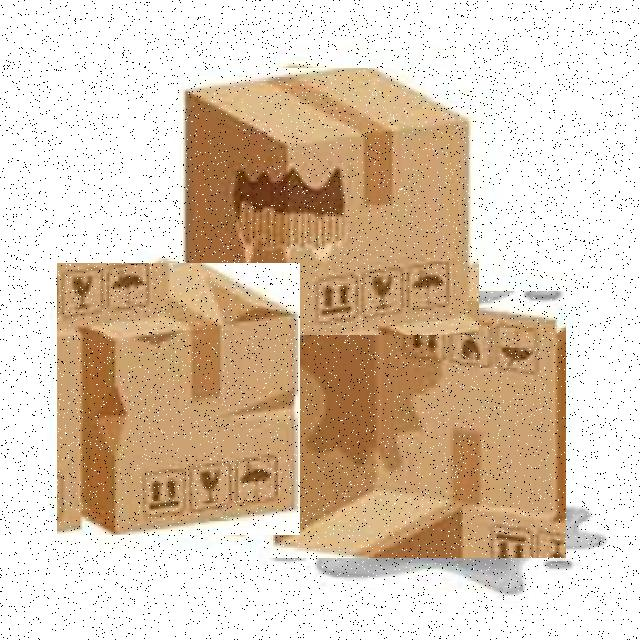defect: (266, 291, 566, 558), (178, 68, 478, 335), (57, 263, 300, 535)
